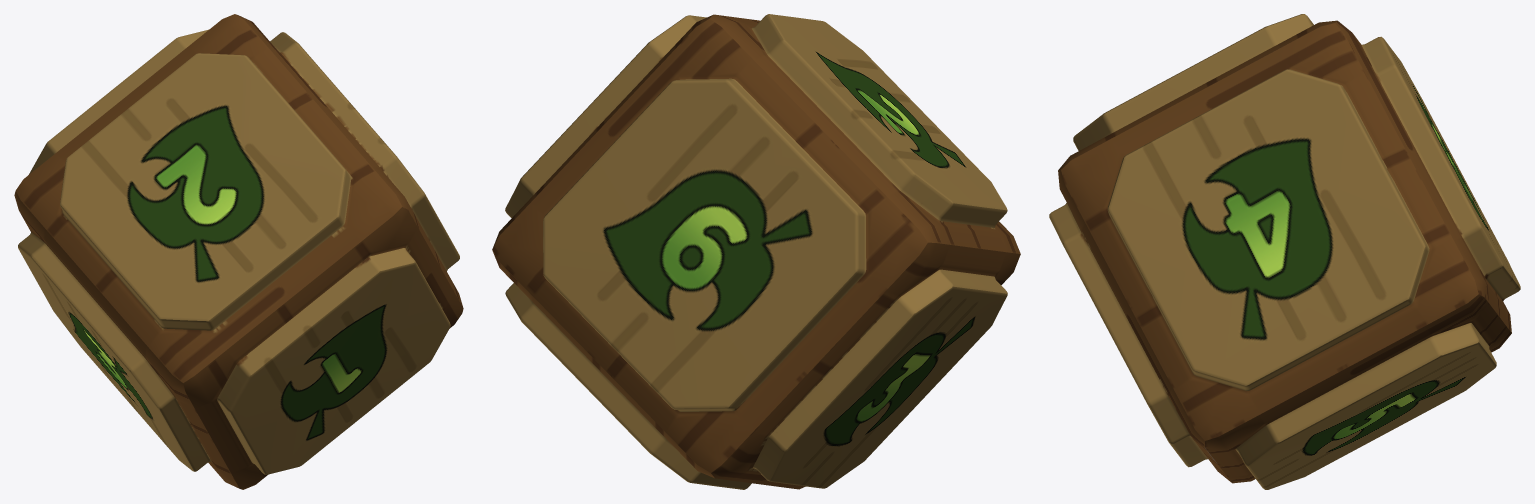
Rendered from dice-5.glb.
The picture shows the model from 3 angles, left to right: view 1: azimuth 30°, elevation 25°; view 2: azimuth 150°, elevation 25°; view 3: azimuth 270°, elevation 25°; orthographic projection. The views are drawn at different scales.
Visible parts, largest first — view 1: dice_05; view 2: dice_05; view 3: dice_05.
Boxes of the visible parts, x1,y1,x2,y2 form: dice_05: (14,14,463,489); dice_05: (492,14,1020,489); dice_05: (1049,14,1520,489).
Size of the model in its own units: 4.08 by 4.45 by 3.98.
Materials: 1 (1 with a texture image).
